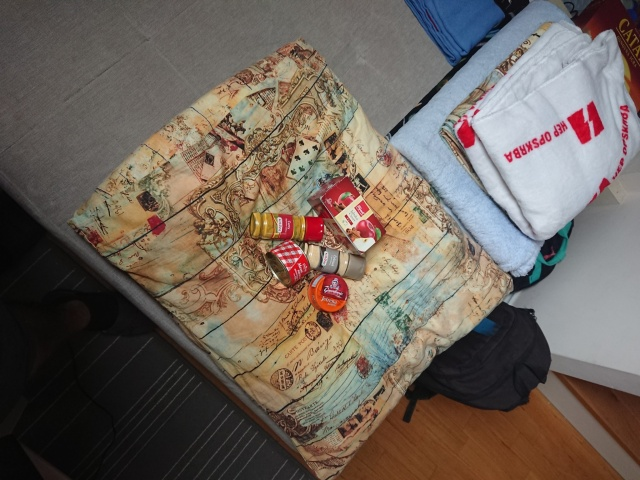Franck Apple Cinnamon Tea 60g: (304, 174, 390, 259)
Gavrilovic Pork Liver Pate 100g: (306, 270, 350, 315)
Kotanyi Curry Spices Mix 70g: (247, 210, 326, 244)
Kotanyi Garlic Granules 70g: (293, 238, 368, 282)
Podravka Luncheon Meat 150g: (262, 238, 313, 289)
